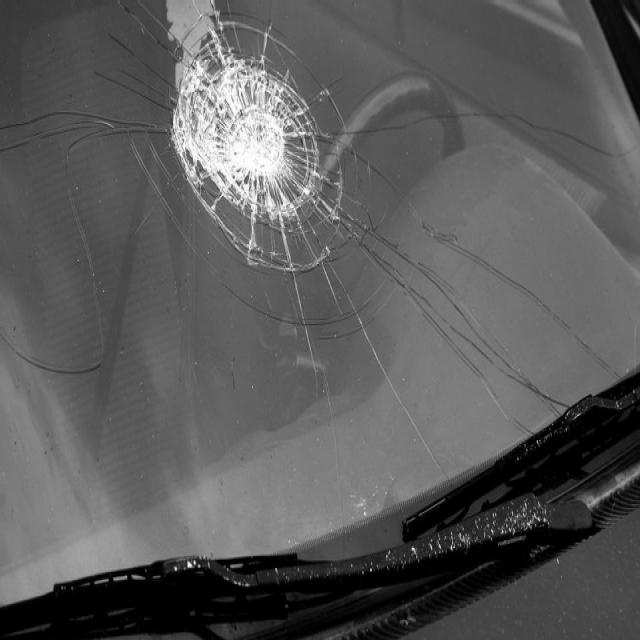crack: (0, 0, 639, 481)
